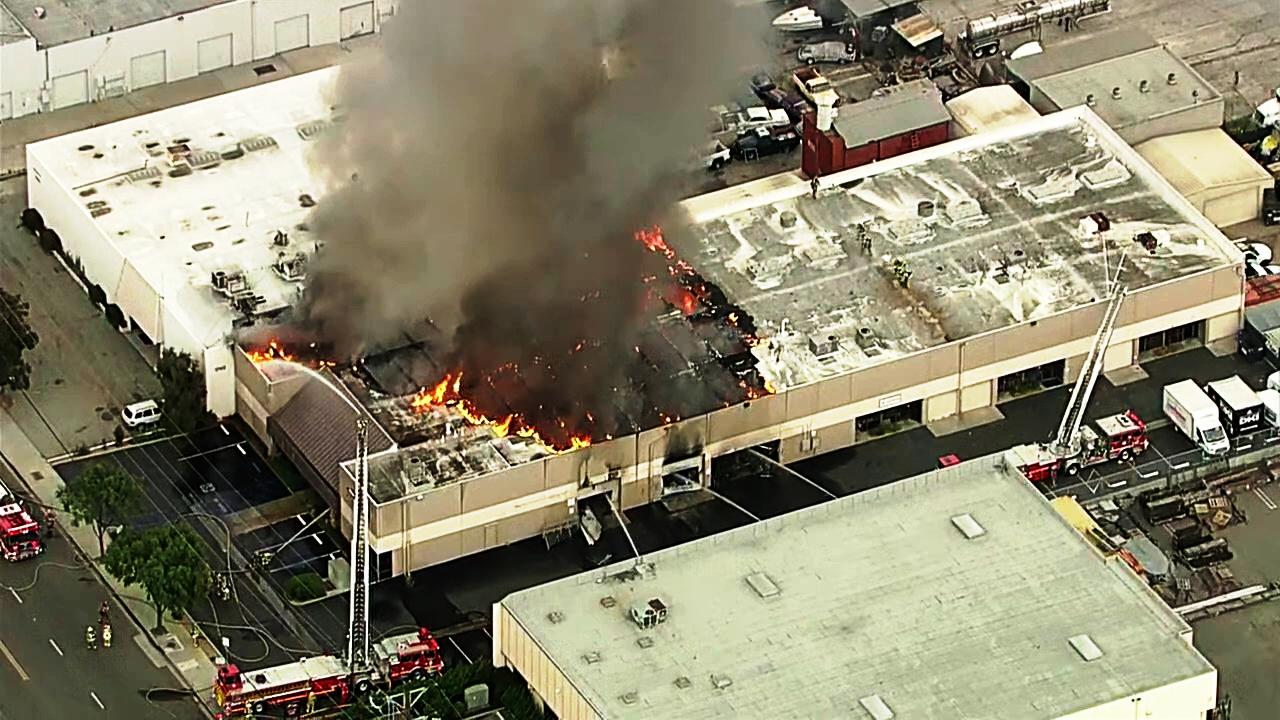smoke: (377, 0, 669, 305)
